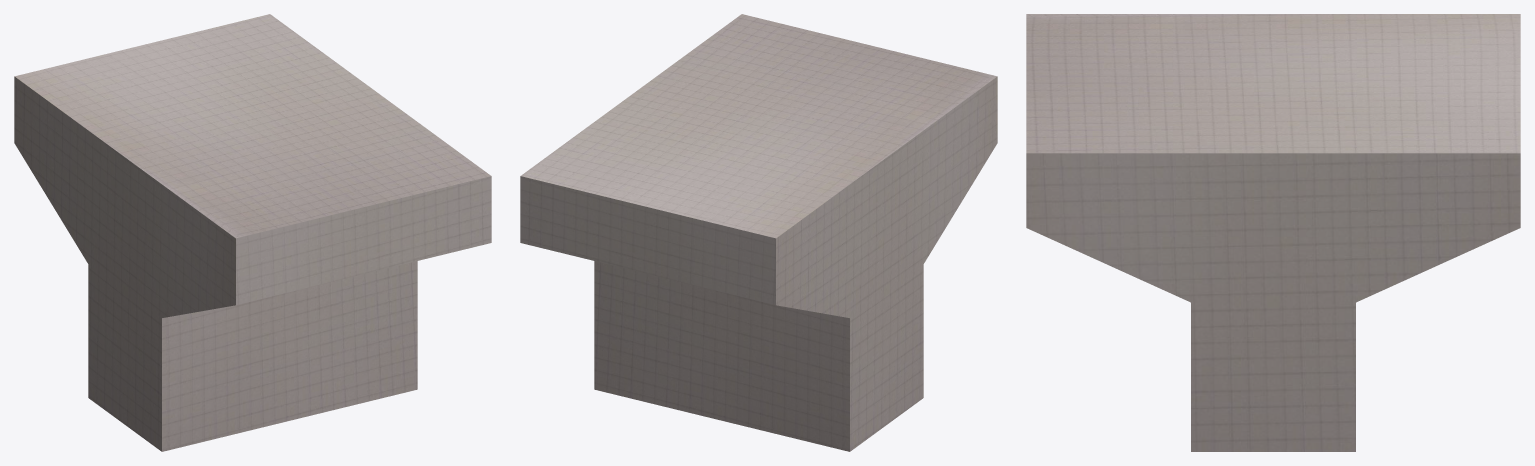
Rendered from bridge.gltf.
The picture shows the model from 3 angles, left to right: view 1: azimuth 30°, elevation 25°; view 2: azimuth 150°, elevation 25°; view 3: azimuth 270°, elevation 25°; orthographic projection. The views are drawn at different scales.
Visible parts, largest first — view 1: Cube; view 2: Cube; view 3: Cube.
Boxes of the visible parts, <box> form: Cube: <box>14,14,491,451</box>; Cube: <box>520,14,997,451</box>; Cube: <box>1026,14,1520,451</box>.
Bounding box in the file's own units: 4 × 4 × 6.
Materials: 1 (1 with a texture image).
